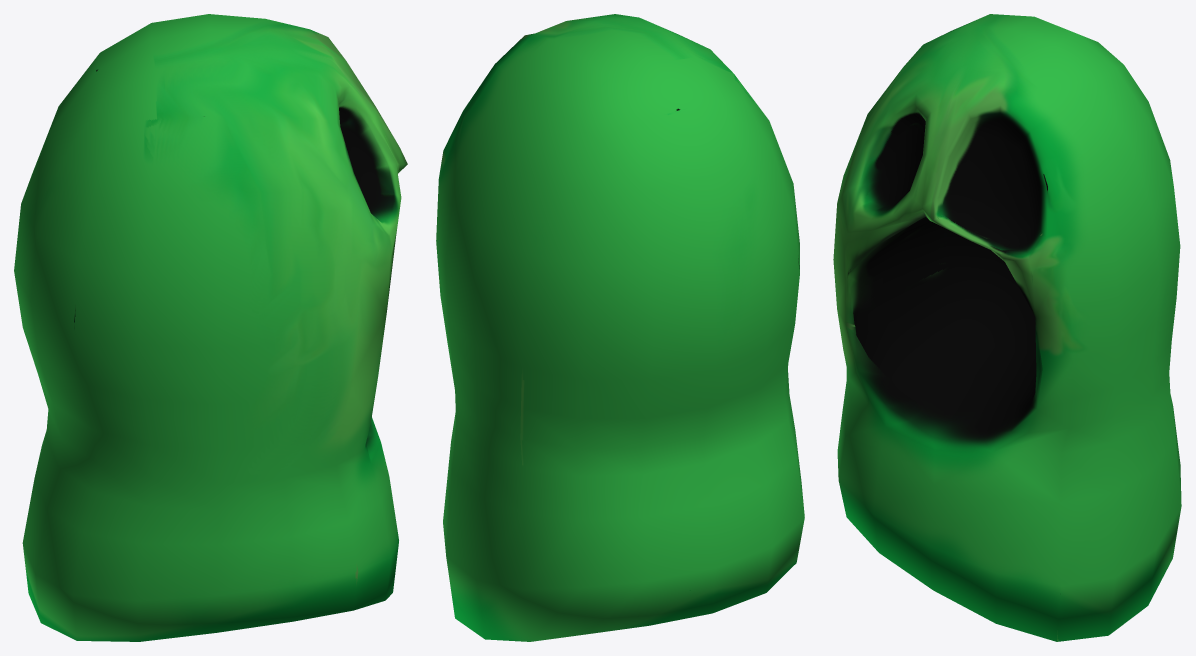
File: Ghost.fbx
The picture shows the model from 3 angles, left to right: view 1: azimuth 30°, elevation 25°; view 2: azimuth 150°, elevation 25°; view 3: azimuth 270°, elevation 25°; orthographic projection. The views are drawn at different scales.
Visible parts, largest first — view 1: Cube.004; view 2: Cube.004; view 3: Cube.004.
Boxes of the visible parts, box(x1,y1,x2,y2) form: Cube.004: box(14, 14, 407, 641); Cube.004: box(436, 14, 804, 641); Cube.004: box(833, 14, 1181, 641).
Bounding box in the file's own units: 54.63 × 92.2 × 52.73.
Materials: 1 (1 with a texture image).
